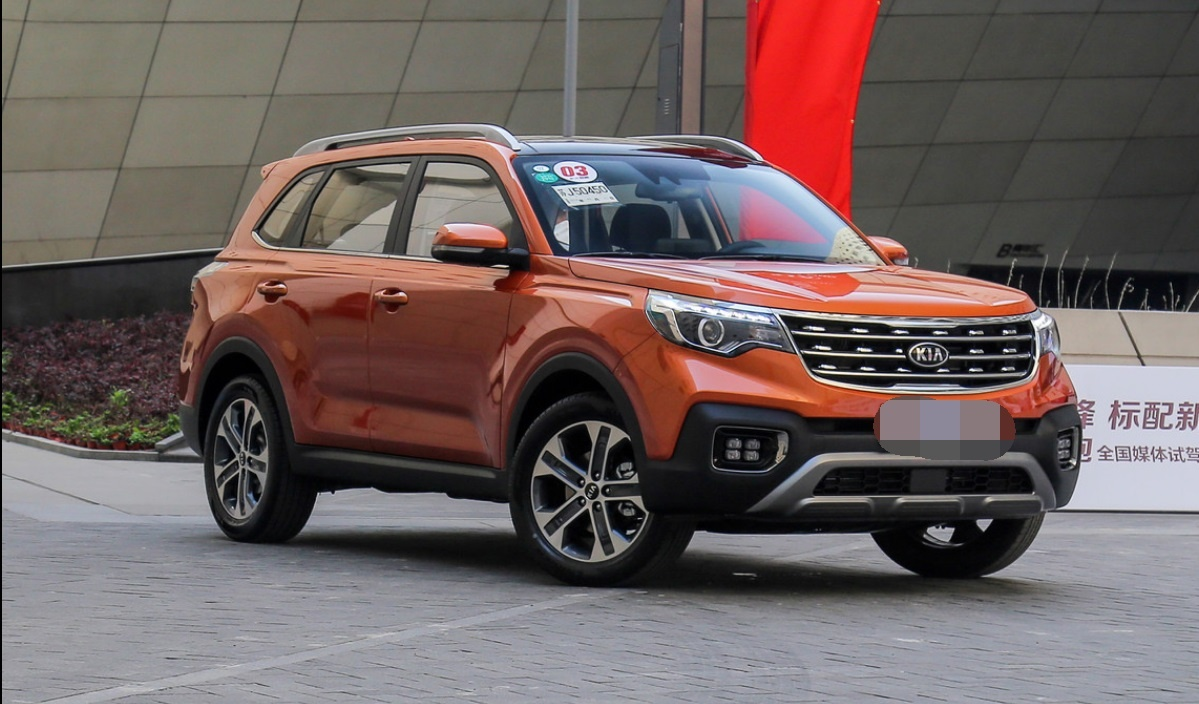SUV: (156, 127, 1094, 619)
